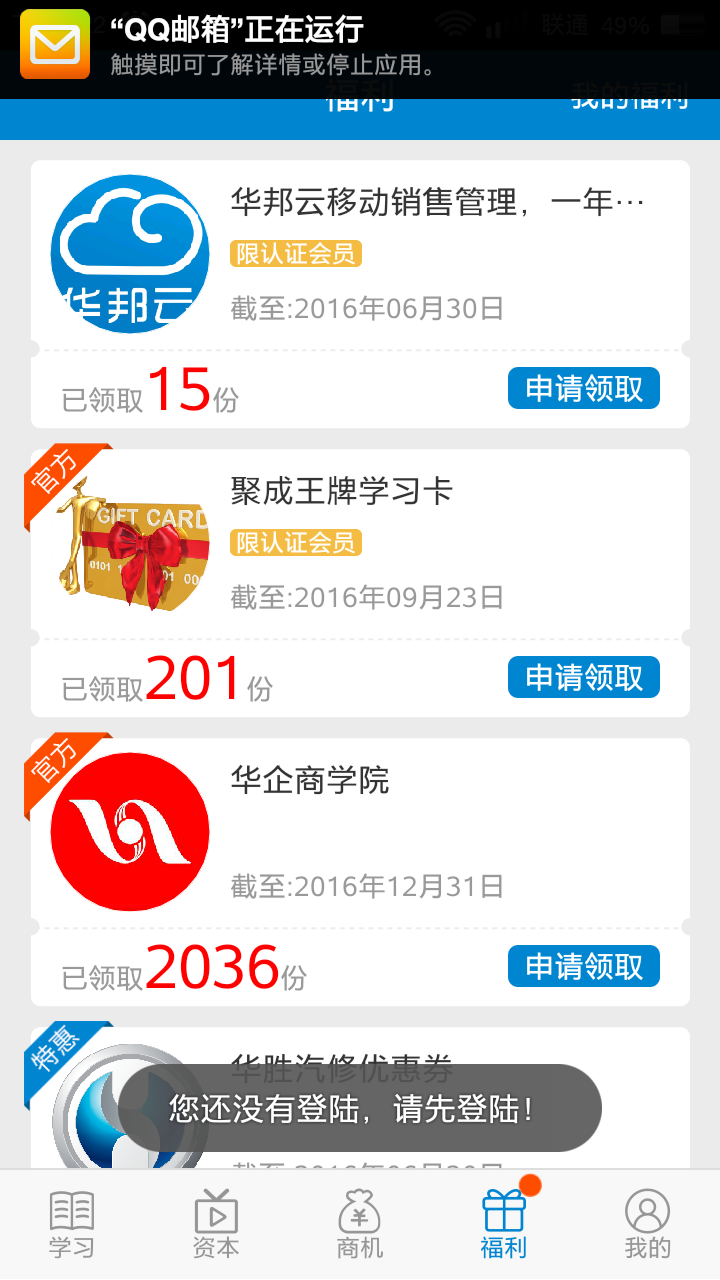alert: (121, 1057, 606, 1154)
button: (501, 361, 668, 417)
imgview: (48, 750, 213, 915)
